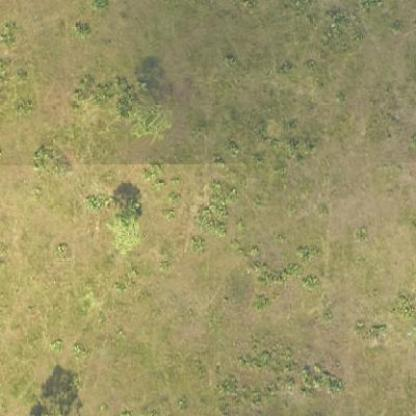tree-top: (127, 95, 170, 139), (107, 204, 142, 248)
